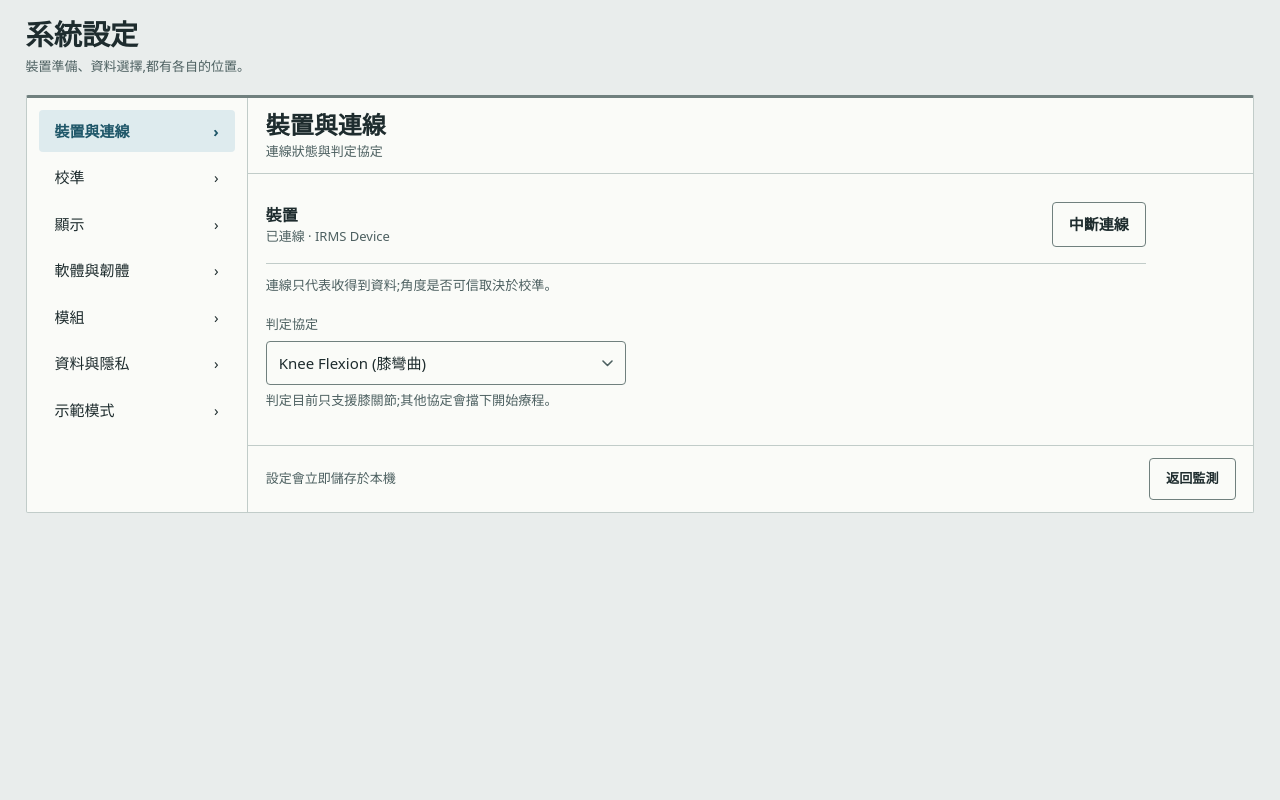
Test: SettingsView 韌體 OTA 面板:連線態閘門 › 已連線且無 Session 時按鈕可用
What coordinates should you click on to do the following:
click the button "軟體與韌體 ›"
I would click on:
 (137, 270)
Its box is [39,249,235,292].
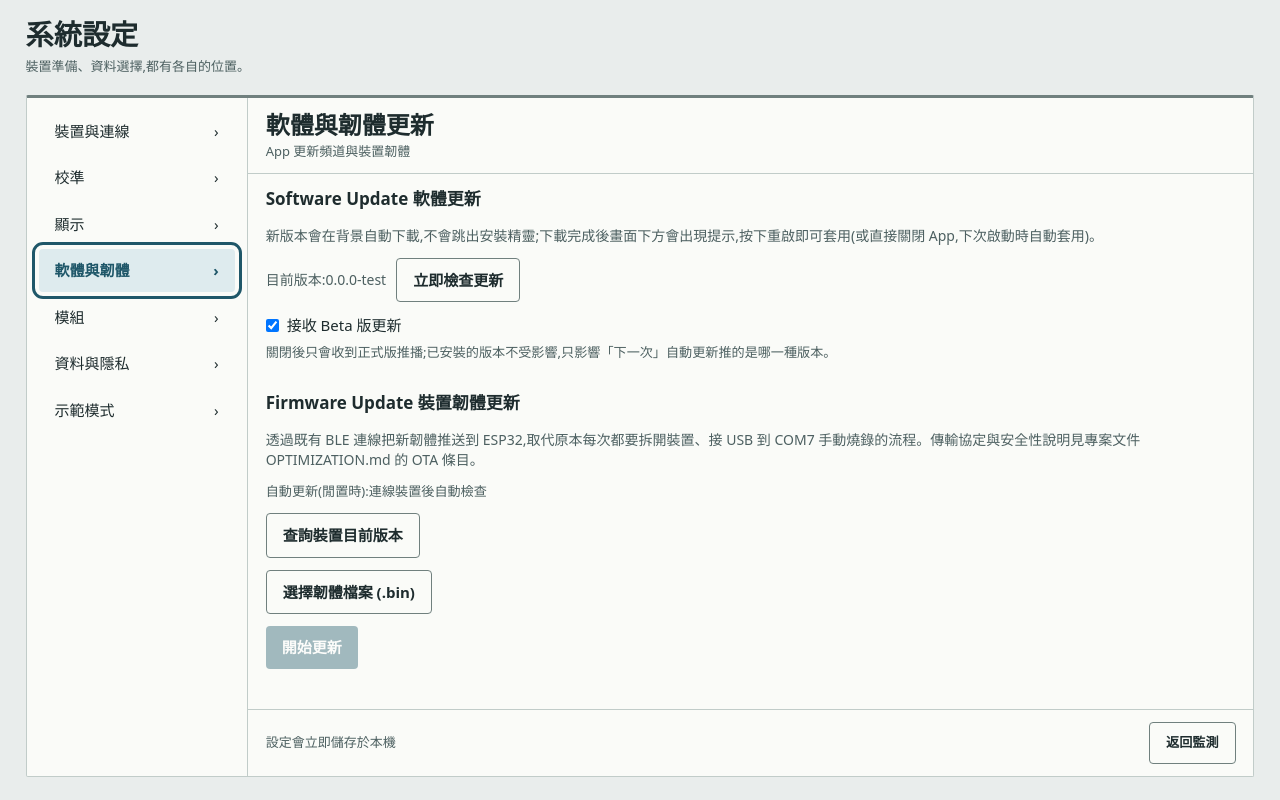
expect the button "選擇韌體檔案 (.bin)" is enabled: met, box [266,570,432,614]
